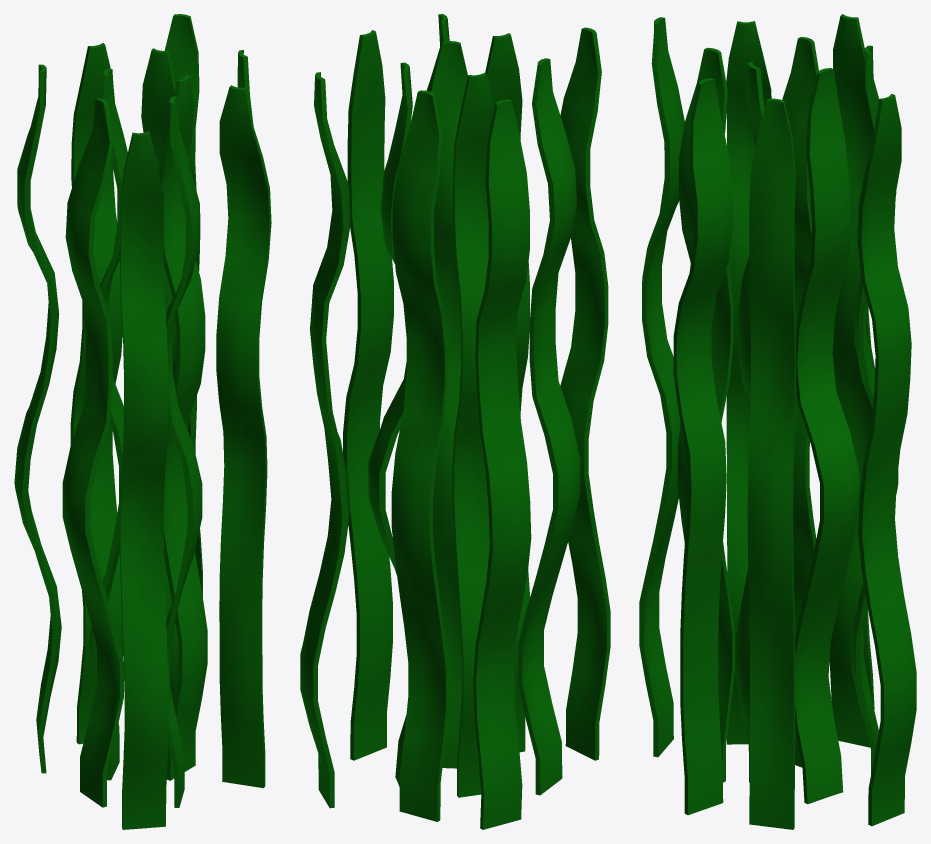
File: Little.fbx
3 renders of one model, left to right at view 1: azimuth 30°, elevation 25°; view 2: azimuth 150°, elevation 25°; view 3: azimuth 270°, elevation 25°, orthographic. The views are drawn at different scales.
Parts seen in each view (by area): view 1: pCube65; view 2: pCube65; view 3: pCube65.
Part boxes in pixels (left/top/right/bottom): pCube65: left=14, top=14, right=271, bottom=829; pCube65: left=300, top=14, right=610, bottom=829; pCube65: left=639, top=14, right=916, bottom=829.
Size of the model in its own units: 49.59 by 160 by 55.47.
